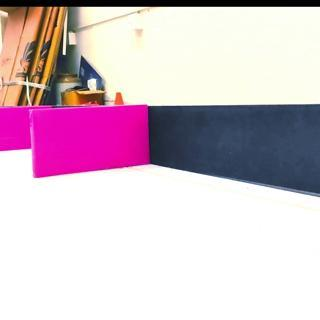xparking: (33, 108, 147, 168)
